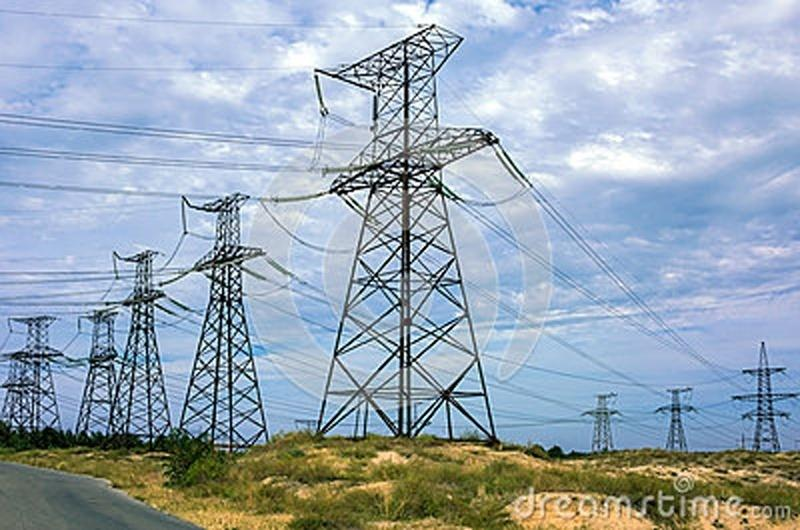power_tower: (311, 39, 494, 432), (192, 189, 269, 437), (104, 252, 175, 426), (5, 299, 63, 440), (737, 328, 791, 458)
